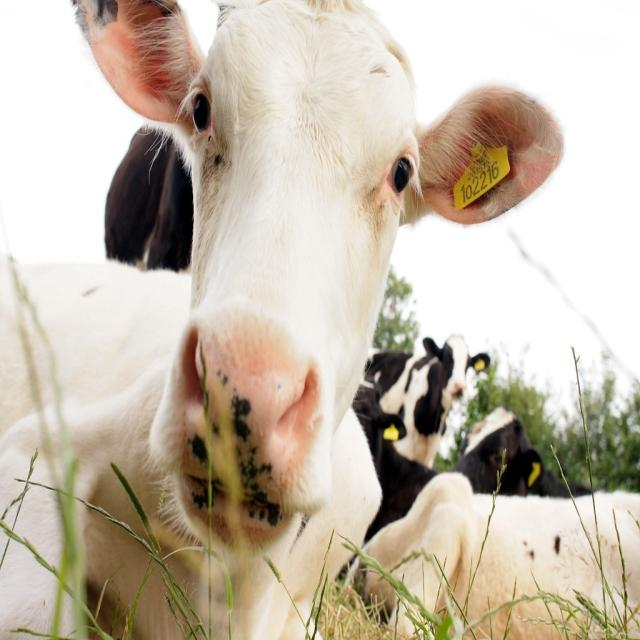cow: (46, 0, 564, 639)
